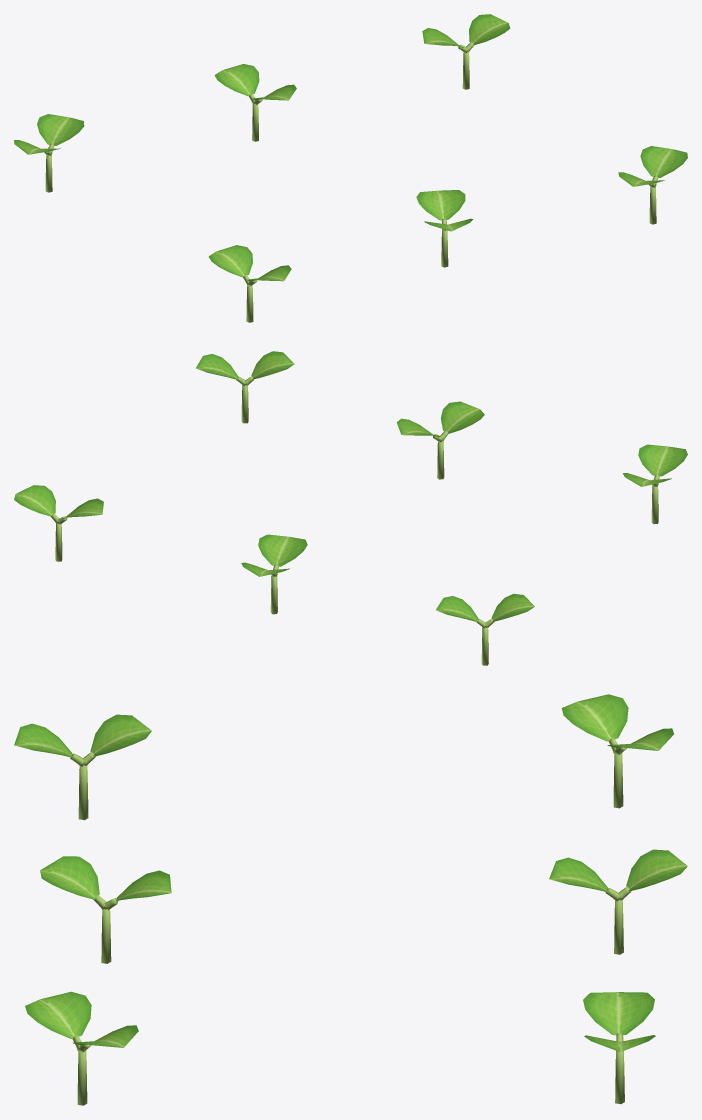
The model's file is crop_turnip_0.glb.
3 views of the same model, one above another, from view 1: azimuth 30°, elevation 25°; view 2: azimuth 150°, elevation 25°; view 3: azimuth 270°, elevation 25° (orthographic). The views are drawn at different scales.
Visible parts, largest first — view 1: model; view 2: model; view 3: model.
Boxes of the visible parts, bbox=[...] form: model: bbox=[14, 14, 687, 322]; model: bbox=[14, 351, 687, 665]; model: bbox=[14, 694, 687, 1105].
Size of the model in its own units: 0.6923 by 0.0783 by 0.5578.
2 materials, 1 textured.
